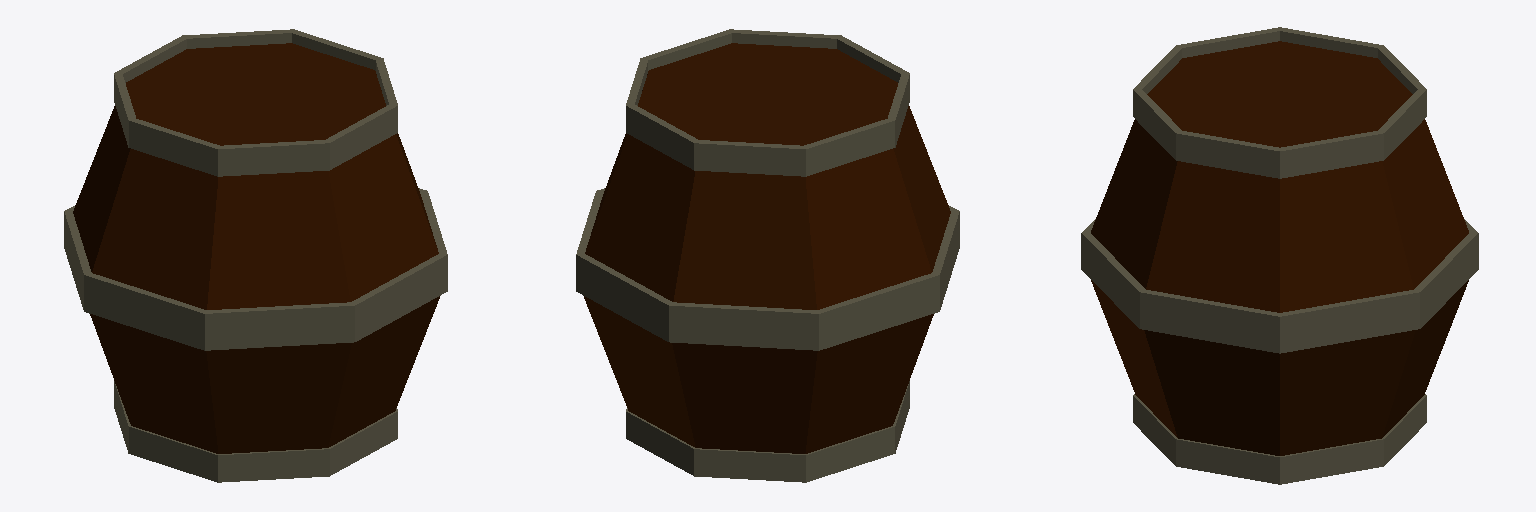
The model's file is Barrel.obj.
3 renders of one model, left to right at view 1: azimuth 30°, elevation 25°; view 2: azimuth 150°, elevation 25°; view 3: azimuth 270°, elevation 25°, orthographic.
Visible parts, largest first — view 1: Barrel_Cylinder.002; view 2: Barrel_Cylinder.002; view 3: Barrel_Cylinder.002.
Part boxes in pixels (left/top/right/bottom): Barrel_Cylinder.002: left=64, top=29, right=447, bottom=482; Barrel_Cylinder.002: left=576, top=29, right=959, bottom=482; Barrel_Cylinder.002: left=1081, top=27, right=1478, bottom=484.
Bounding box in the file's own units: 1.63 × 1.51 × 1.63.